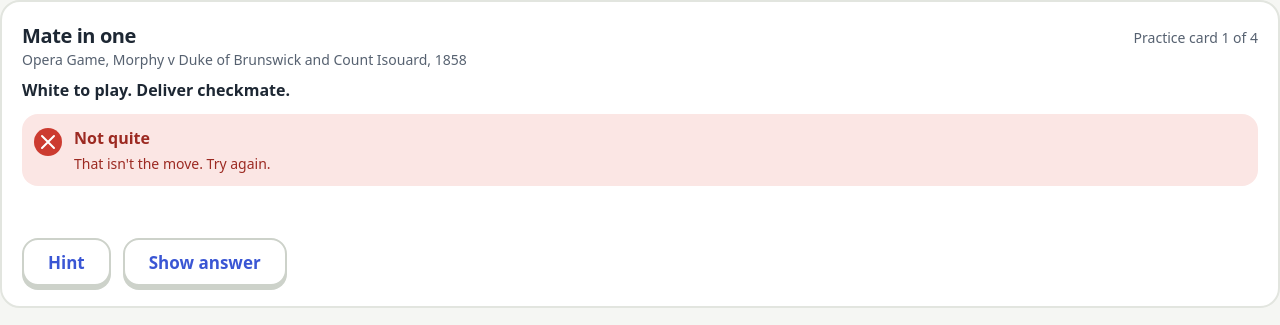
it: Practice cards › keeps Show answer unavailable until two wrong tries, then plays the answer
The width and height of the screenshot is (1280, 325).
Later steps or results of the test are not shown.
Click the button "Show answer" at (205, 262), box [123,238,287,286]
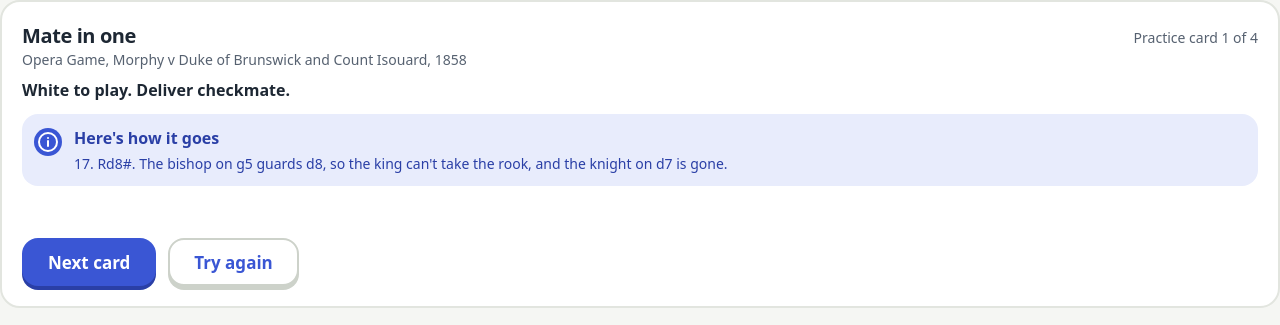
expect the message shows "Here's how it goes": met, box [74,127,219,149]
